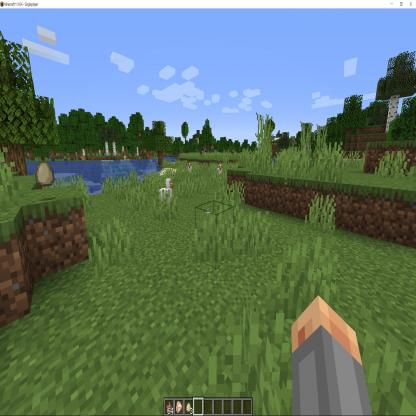minecraft-pigs: (208, 178, 235, 250)
